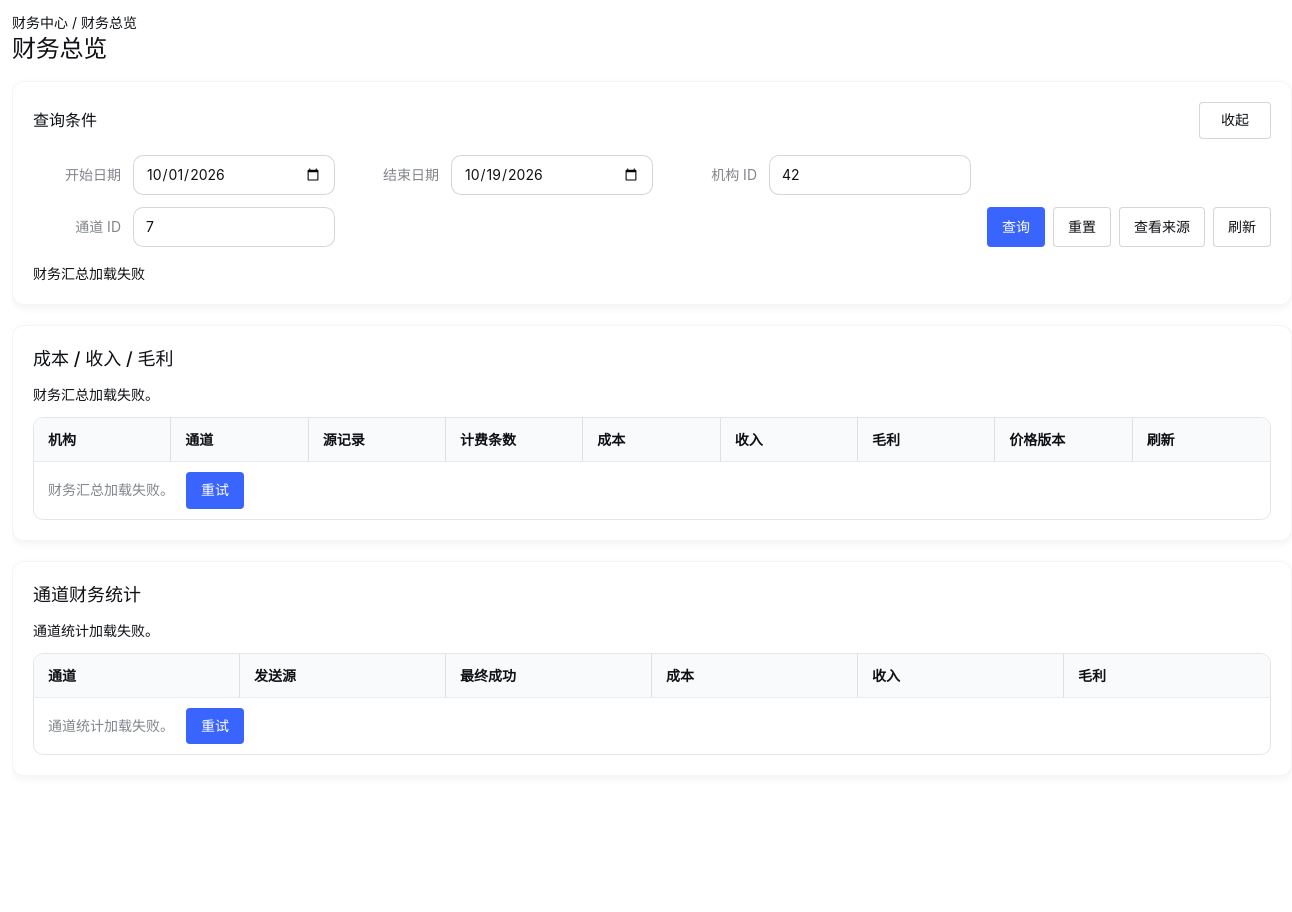
it: Phase 39 financial source analytics UI › exposes semantic retry actions and recovers to an empty result
Expected: the number of messages is 1, left=33, top=265, right=145, bottom=282
Expected: the button with test id "admin-financial-source-channel-statistics-retry" is shown, left=186, top=708, right=244, bottom=744
Click the button with test id "admin-financial-source-financial-analytics-retry" at (215, 490), box left=186, top=472, right=244, bottom=509
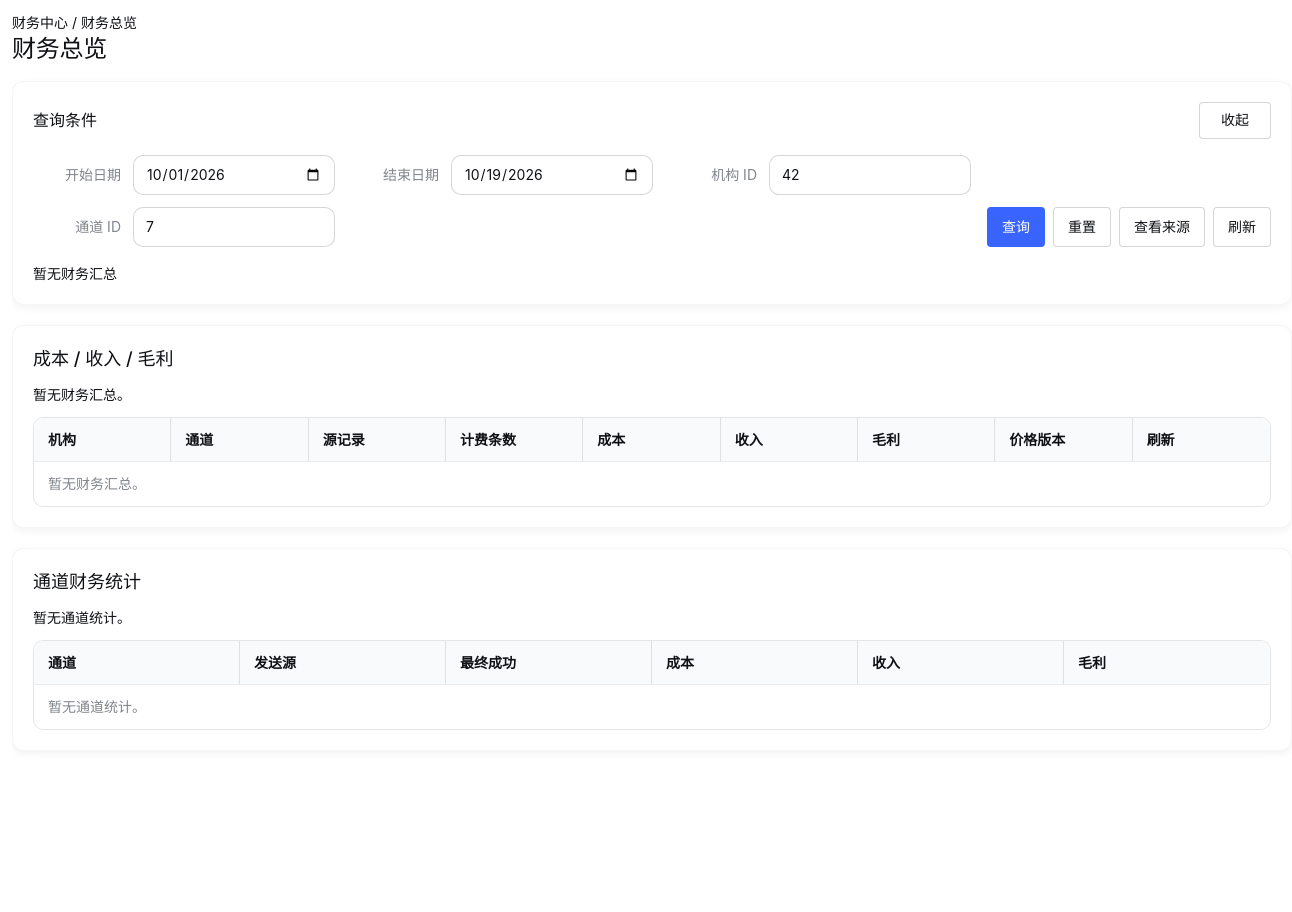
Expected: the number of cells with test id "table-empty" is 2, left=34, top=462, right=1270, bottom=506; left=34, top=685, right=1270, bottom=729
